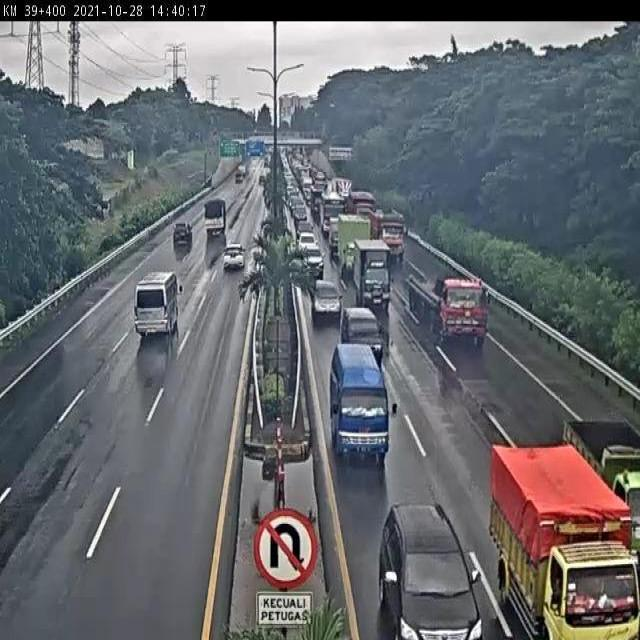car: (340, 304, 384, 357), (309, 280, 342, 323), (300, 241, 325, 279), (223, 239, 244, 268), (173, 221, 192, 244)
truck: (329, 344, 394, 467), (408, 271, 495, 348), (133, 275, 177, 339), (353, 239, 391, 313), (336, 212, 370, 281), (369, 206, 408, 262)
